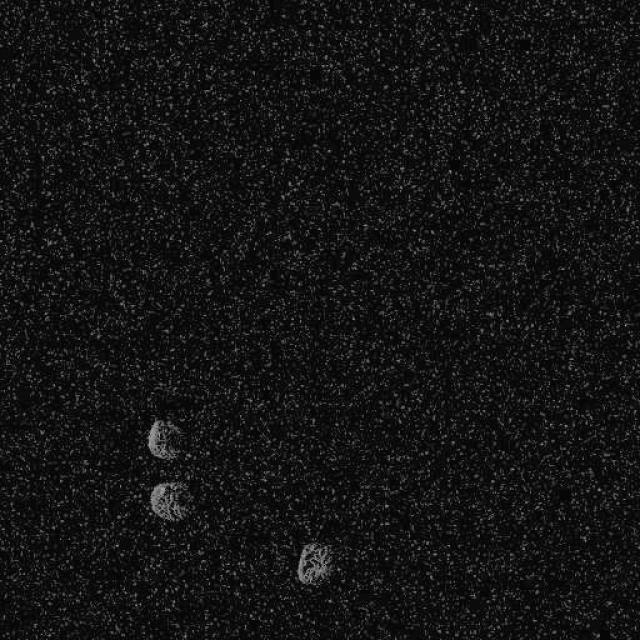D2: (295, 540, 334, 586), (149, 480, 191, 522), (145, 418, 184, 460)
